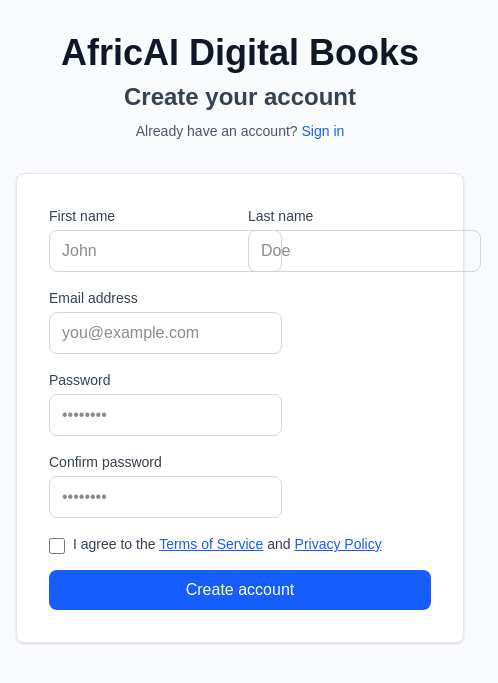
RegisterPage › Password Strength Indicator › updates password strength for fair password
Type "Password" into the password field labelled "Password" at (166, 415), box [49,394,282,436]
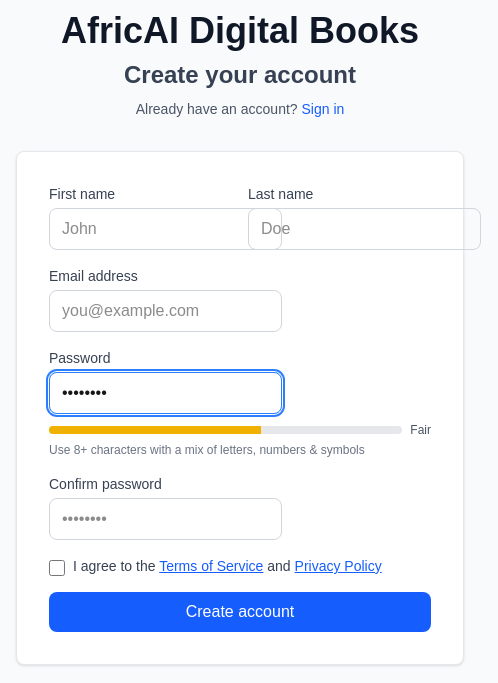
Now the text "Fair" is shown, box [410,422,431,438]
